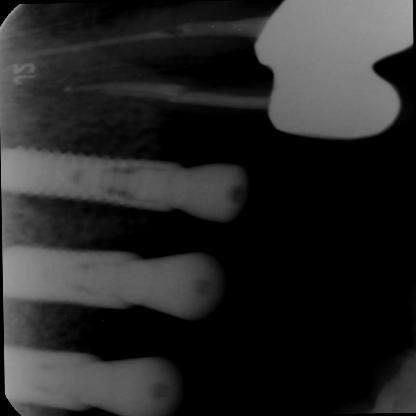ITI: (0, 144, 182, 218), (1, 241, 135, 316), (2, 343, 103, 416)
